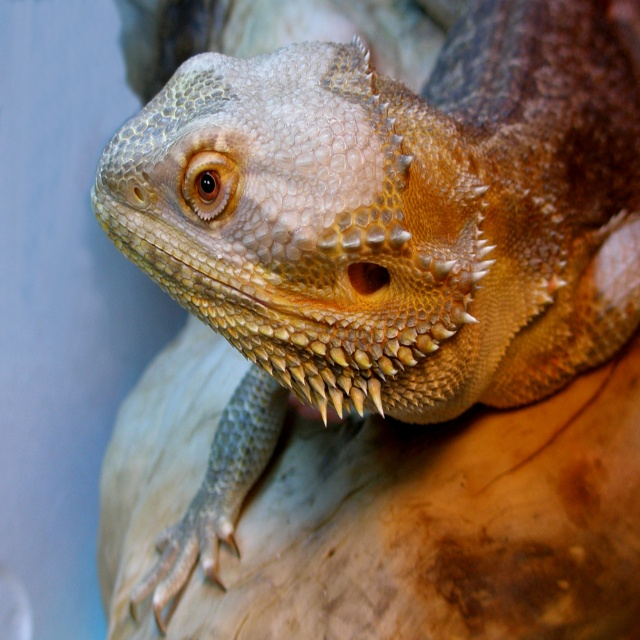Lizard: (92, 5, 639, 630)
